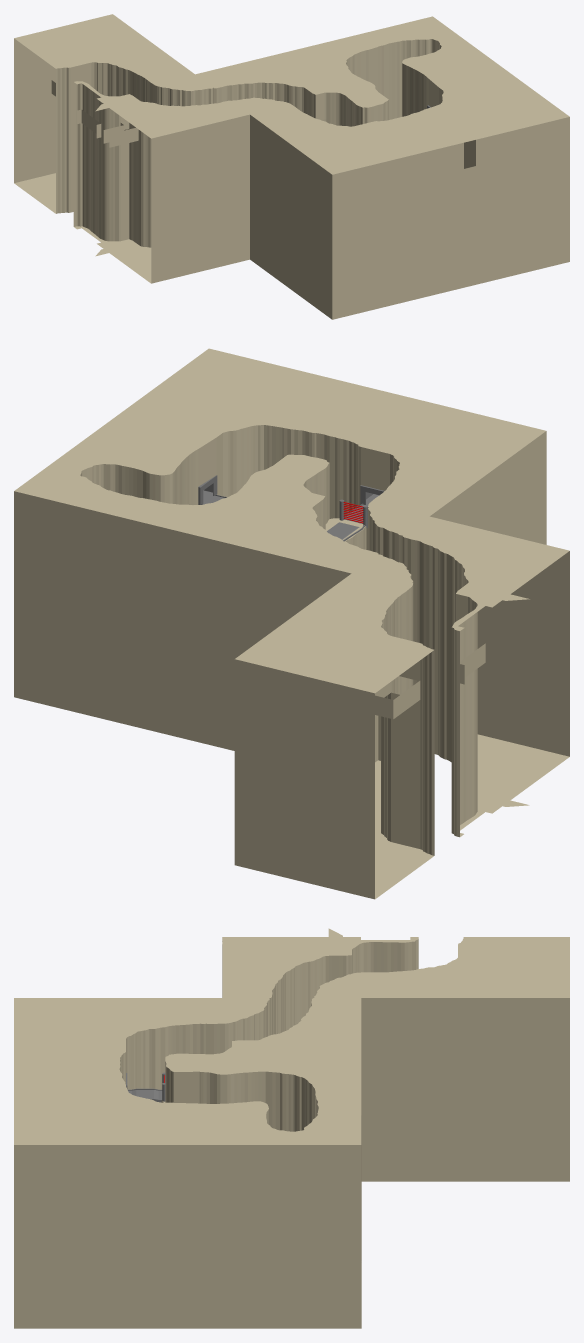
The model's file is moon base3.fbx.
3 views of the same model, one above another, from view 1: azimuth 30°, elevation 25°; view 2: azimuth 150°, elevation 25°; view 3: azimuth 270°, elevation 25° (orthographic). The views are drawn at different scales.
Visible parts, largest first — view 1: Plane.007; view 2: Plane.007; view 3: Plane.007.
Boxes of the visible parts, <box> form: Plane.007: <box>14,14,569,319</box>; Plane.007: <box>14,348,569,899</box>; Plane.007: <box>14,928,569,1328</box>.
Bounding box in the file's own units: 5901 × 2333 × 6400.
